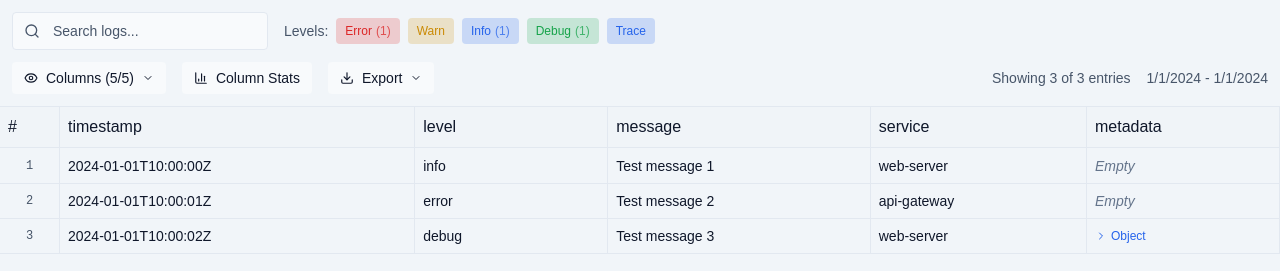
Test: JsonLogViewer › should filter entries based on toolbar filters
The width and height of the screenshot is (1280, 271).
Expected: the text "Showing 3 of 3 entries" is shown, [992,68,1131,88]
Click on Error level filter to hide error entries
Step 1. Click the button "Error(1)" → (368, 31), box [336,18,400,44]
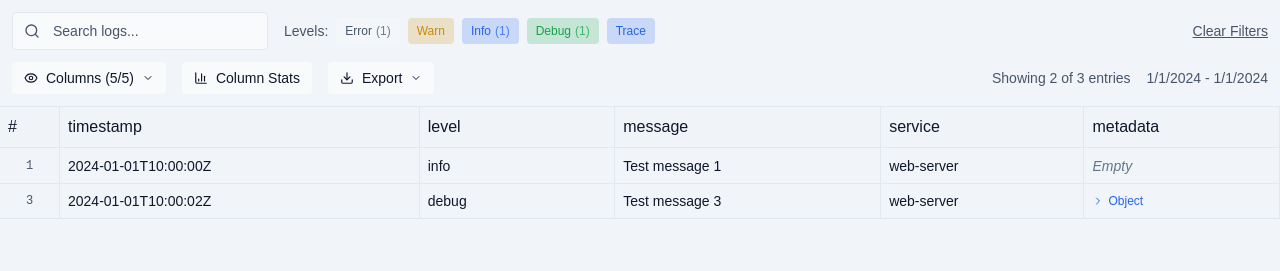
Result: the text "Showing 2 of 3 entries" is shown at [992,68,1131,88]
